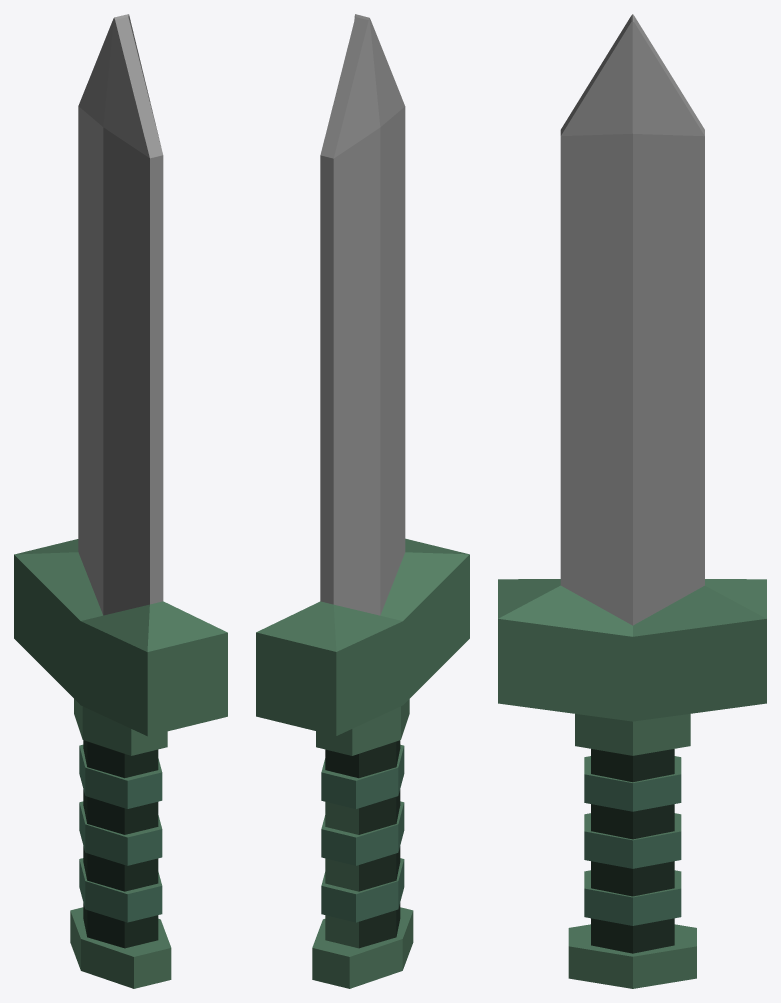
The model's file is Sword.glb.
3 renders of one model, left to right at view 1: azimuth 30°, elevation 25°; view 2: azimuth 150°, elevation 25°; view 3: azimuth 270°, elevation 25°, orthographic.
Visible parts, largest first — view 1: Cube; view 2: Cube; view 3: Cube.
Boxes of the visible parts, x1,y1,x2,y2 form: Cube: [14, 14, 227, 988]; Cube: [256, 14, 469, 988]; Cube: [498, 14, 766, 988].
Size of the model in its own units: 2 by 22.47 by 5.75.
